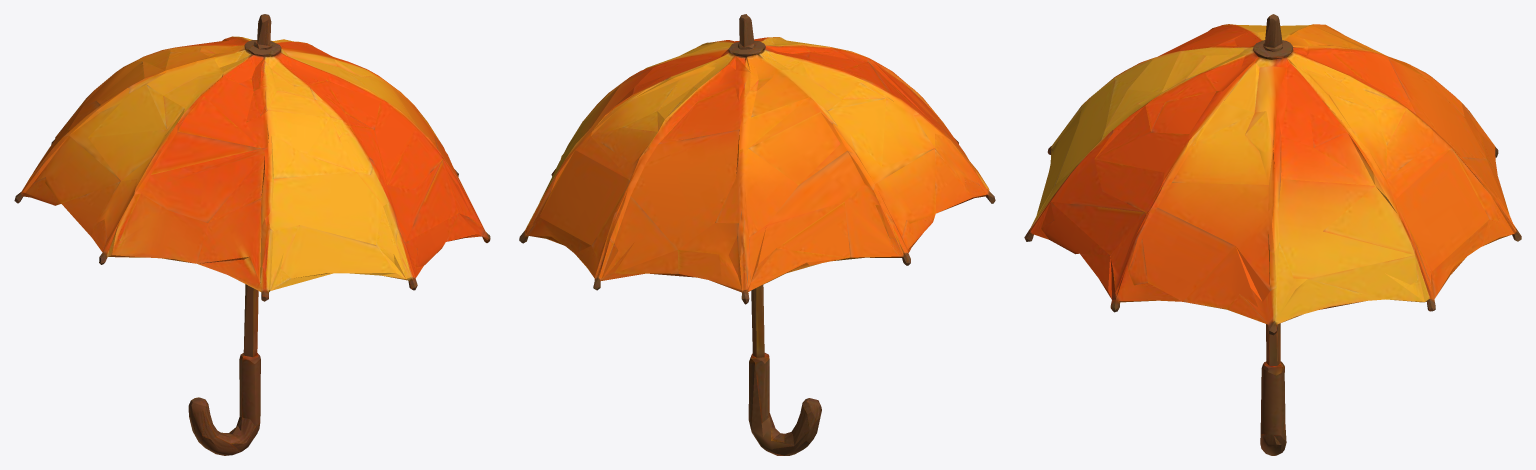
The model's file is umbrella.glb.
3 views of the same model, side by side, from view 1: azimuth 30°, elevation 25°; view 2: azimuth 150°, elevation 25°; view 3: azimuth 270°, elevation 25° (orthographic). The views are drawn at different scales.
Parts seen in each view (by area): view 1: output_unwrapped; view 2: output_unwrapped; view 3: output_unwrapped.
Boxes of the visible parts, x1,y1,x2,y2 form: output_unwrapped: (14,14,490,455); output_unwrapped: (519,14,995,455); output_unwrapped: (1024,14,1521,455).
Bounding box in the file's own units: 1.85 × 1.9 × 1.88.
Materials: 1 (1 with a texture image).
